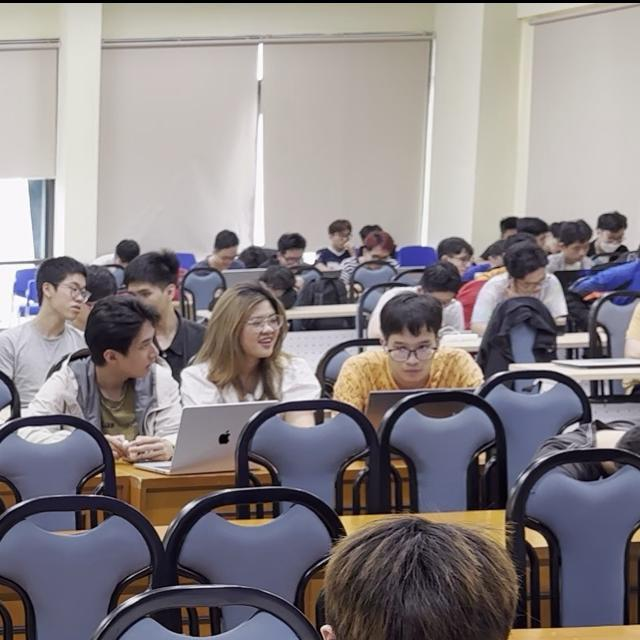Looking away: (116, 318, 159, 377), (240, 298, 281, 356), (47, 272, 88, 321)
Looking forward: (383, 329, 444, 381)
